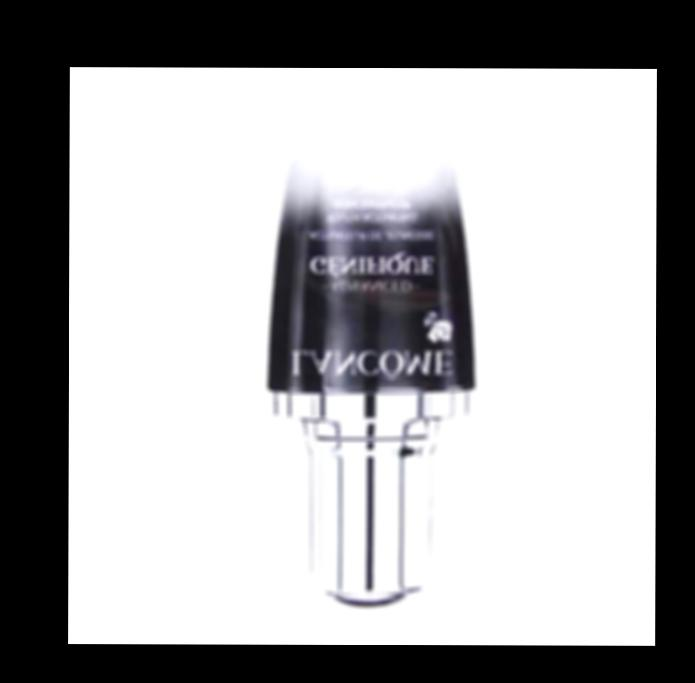cosmetic: (267, 101, 478, 609)
